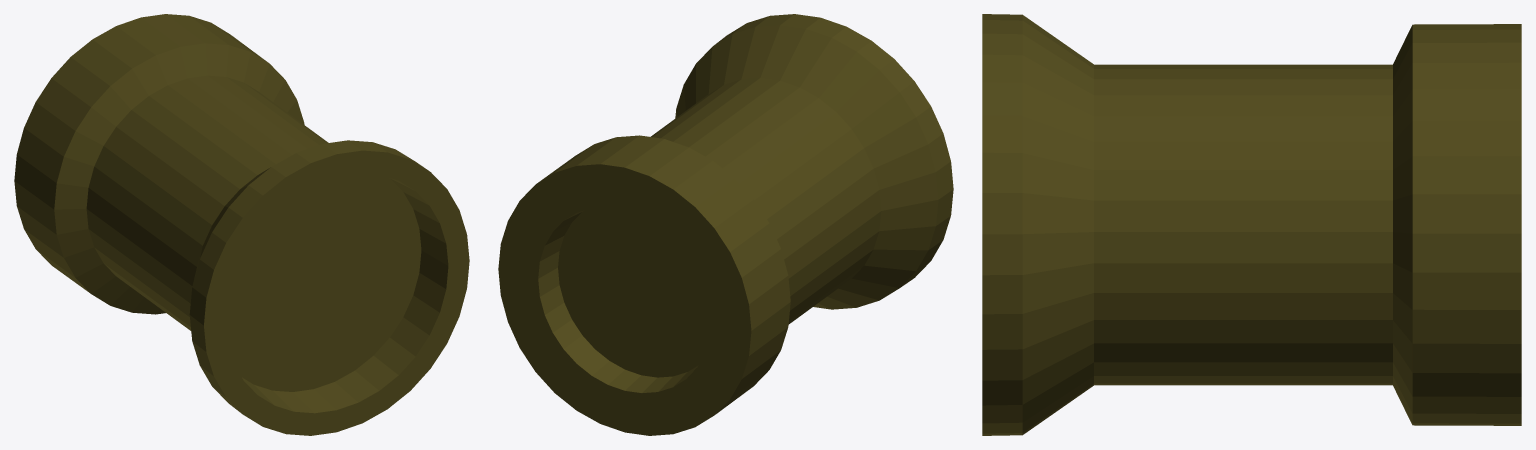
File: Hose.fbx
3 views of the same model, side by side, from view 1: azimuth 30°, elevation 25°; view 2: azimuth 150°, elevation 25°; view 3: azimuth 270°, elevation 25° (orthographic). The views are drawn at different scales.
Parts seen in each view (by area): view 1: Cylinder; view 2: Cylinder; view 3: Cylinder.
Boxes of the visible parts, x1,y1,x2,y2 form: Cylinder: (14,14,469,435); Cylinder: (498,14,953,435); Cylinder: (982,14,1521,435).
Size of the model in its own units: 263 by 263 by 336.
